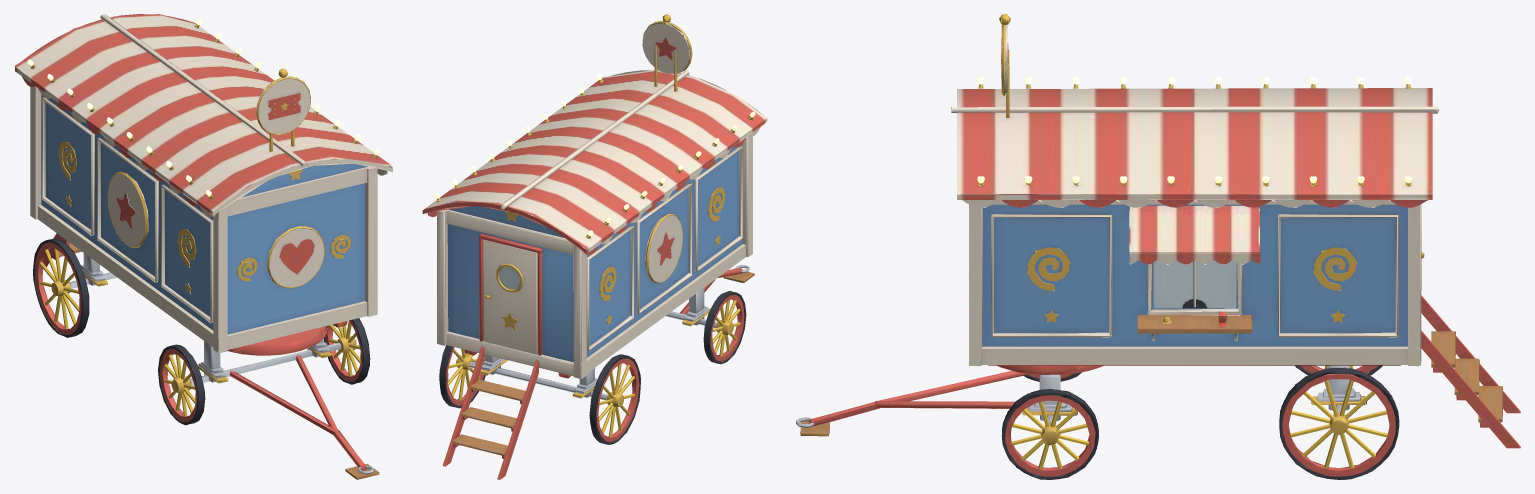
Rendered from carromato.glb.
The picture shows the model from 3 angles, left to right: view 1: azimuth 30°, elevation 25°; view 2: azimuth 150°, elevation 25°; view 3: azimuth 270°, elevation 25°; orthographic projection. The views are drawn at different scales.
Visible parts, largest first — view 1: circus-wagon_body; view 2: circus-wagon_body; view 3: circus-wagon_body.
Part boxes in pixels (left/top/right/bottom): circus-wagon_body: left=15, top=14, right=392, bottom=479; circus-wagon_body: left=422, top=14, right=767, bottom=479; circus-wagon_body: left=796, top=14, right=1520, bottom=479.
Size of the model in its own units: 2.43 by 3.97 by 6.28.
18 materials, 1 textured.
